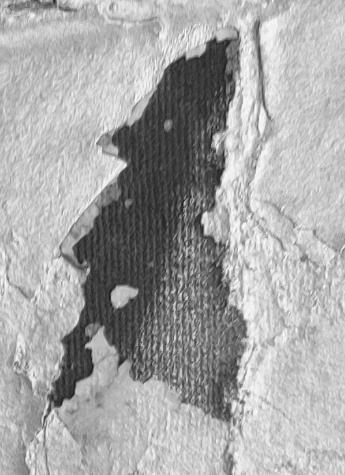crack: (1, 1, 345, 475)
